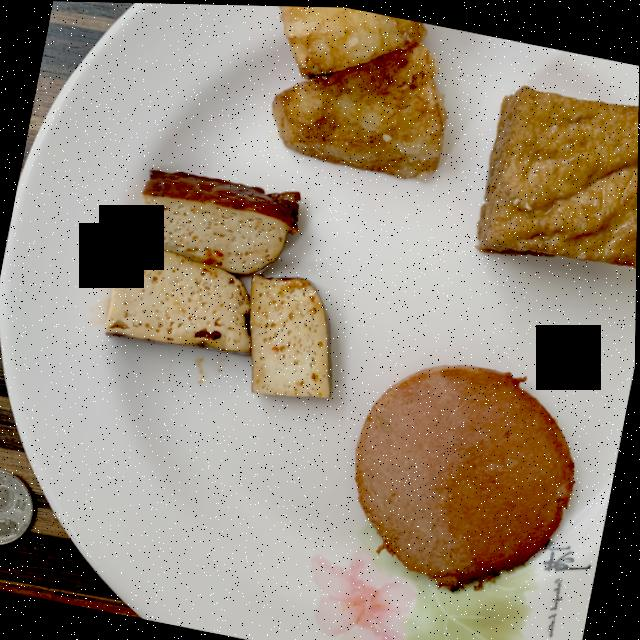Spam: (355, 362, 574, 587)
coin: (0, 471, 34, 544)
egg tofu: (476, 83, 639, 265)
firm tofu: (105, 169, 331, 396)
fried potato: (271, 5, 447, 177)
